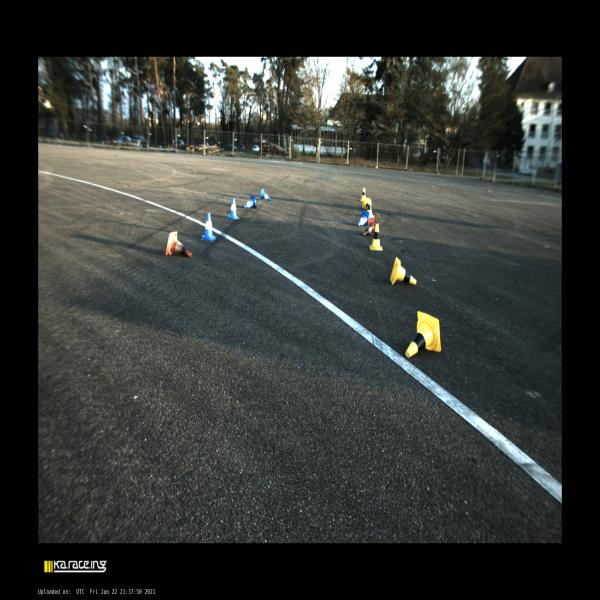blue_cone: (201, 213, 216, 240), (227, 198, 240, 219), (244, 195, 256, 209), (358, 212, 369, 226), (260, 189, 271, 201)
orange_cone: (166, 232, 192, 258), (363, 219, 374, 236)
yellow_cone: (405, 312, 441, 358), (390, 257, 416, 285), (370, 224, 382, 251), (367, 199, 374, 218), (362, 197, 370, 208), (360, 187, 366, 201)
